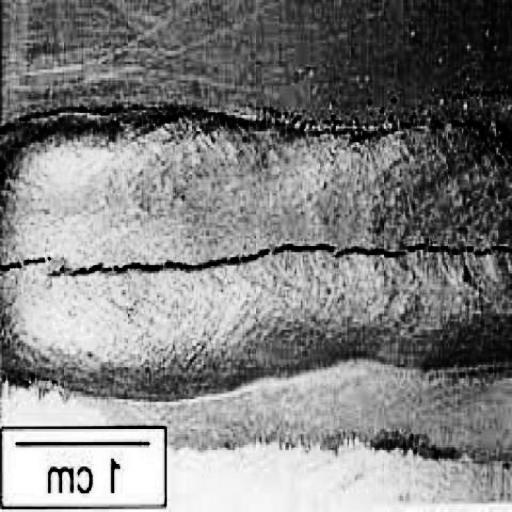crack: (0, 235, 510, 284)
